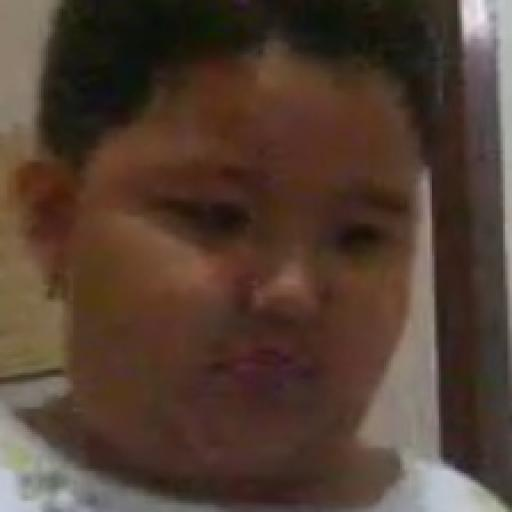Autism: (14, 0, 430, 496)
